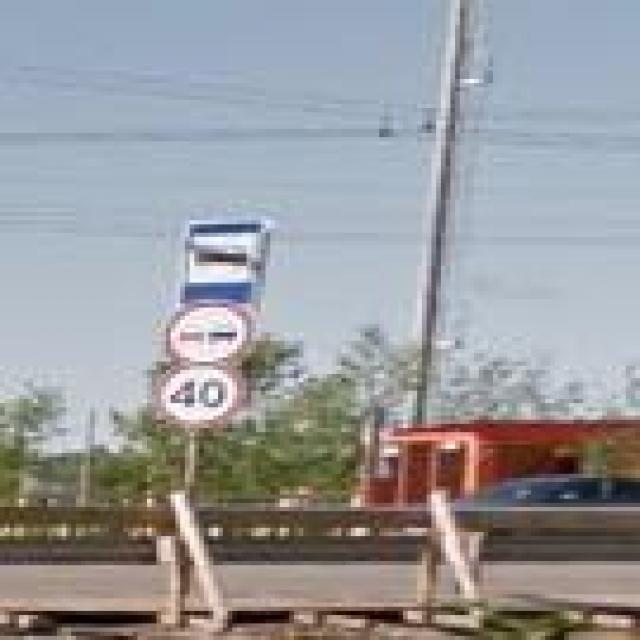Ograniczenie predkosci do 40: (156, 358, 242, 432)
